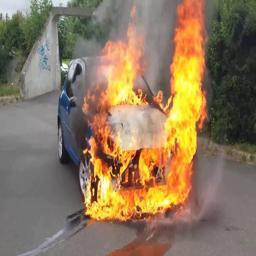fire: (85, 0, 207, 223)
